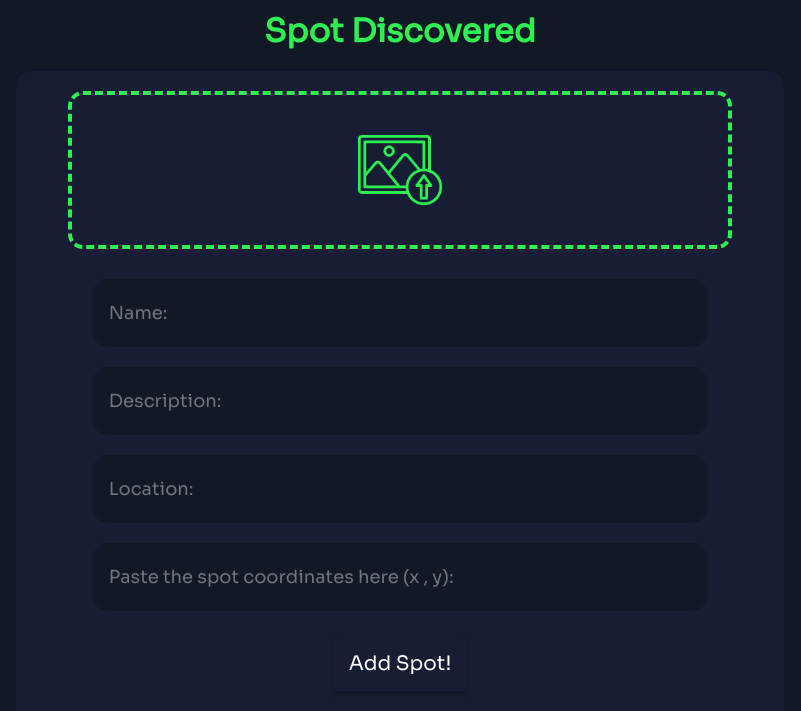
Test case: Given a SpotDiscoveredPage component › When all input fields are filled › Then the submit button shouldn't be disabled
Type "hola" into the field with placeholder "Name:".
click(400, 313); type("hola")  # box top-left (93, 279), bottom-right (707, 347)
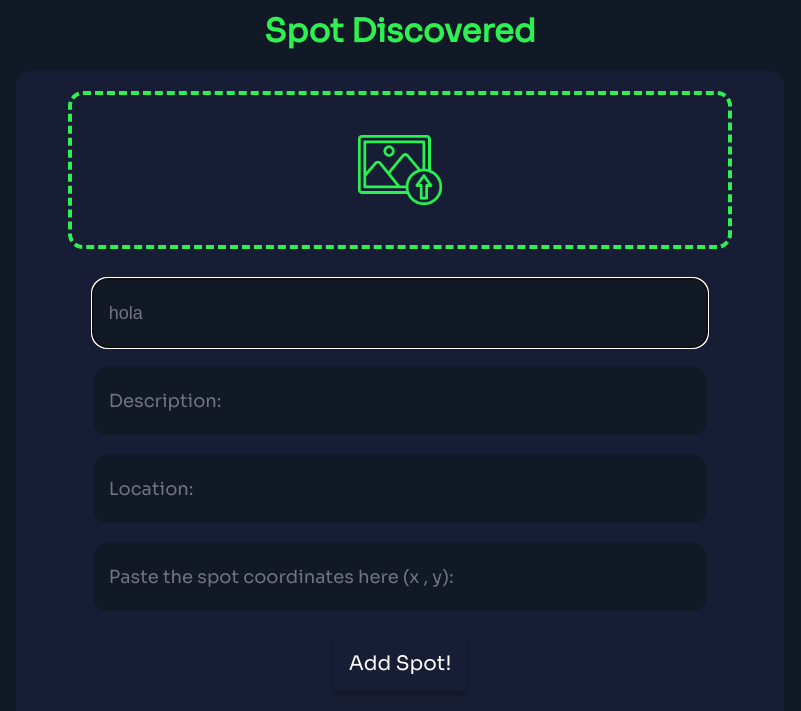
Type "hola" into the field with placeholder "Description:".
click(400, 401); type("hola")  # box top-left (93, 367), bottom-right (707, 435)
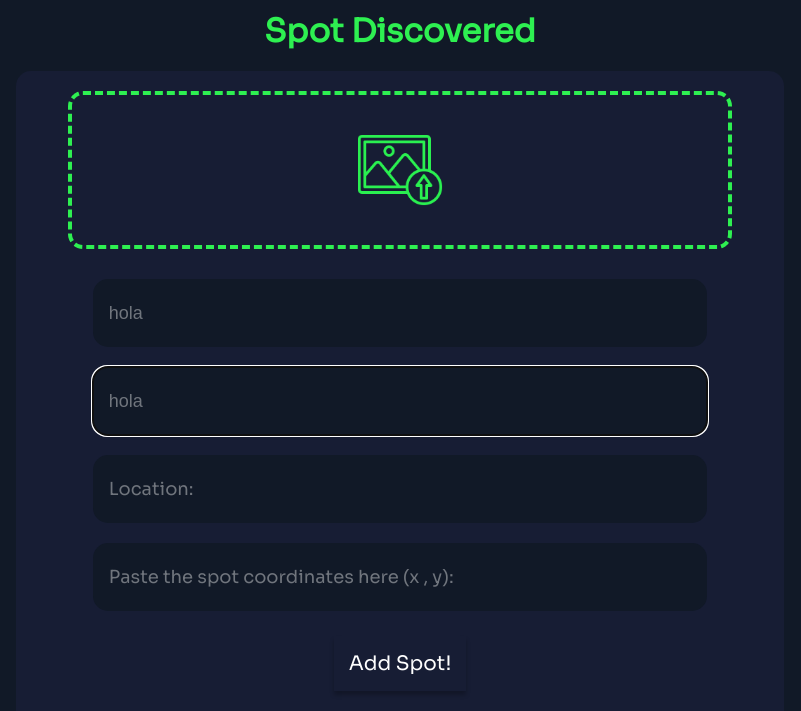
Type "hola" into the field with placeholder "Location:".
click(400, 489); type("hola")  # box top-left (93, 455), bottom-right (707, 523)
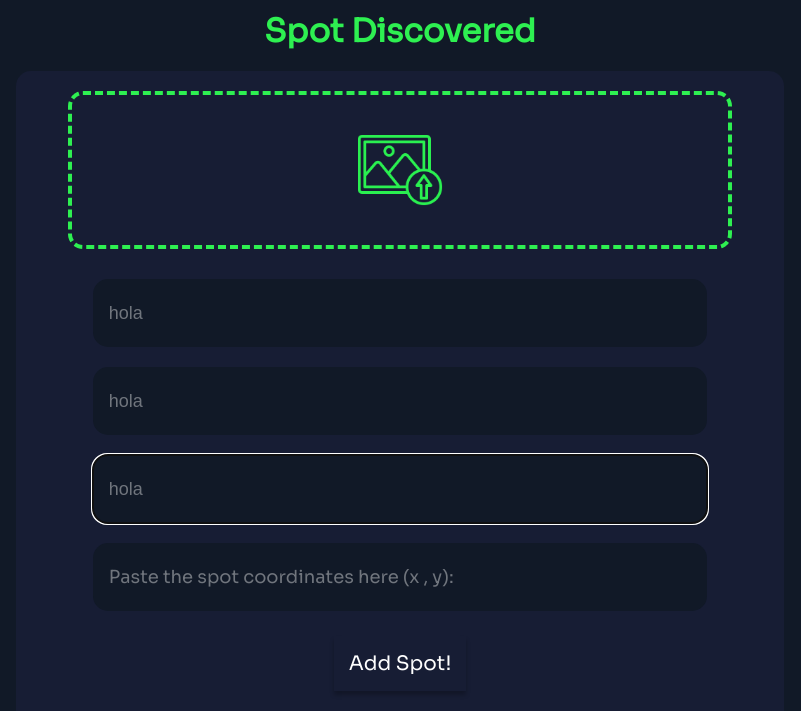
Type "hola" into the field with placeholder "Paste the spot coordinates here (x , y):".
click(400, 577); type("hola")  # box top-left (93, 543), bottom-right (707, 611)
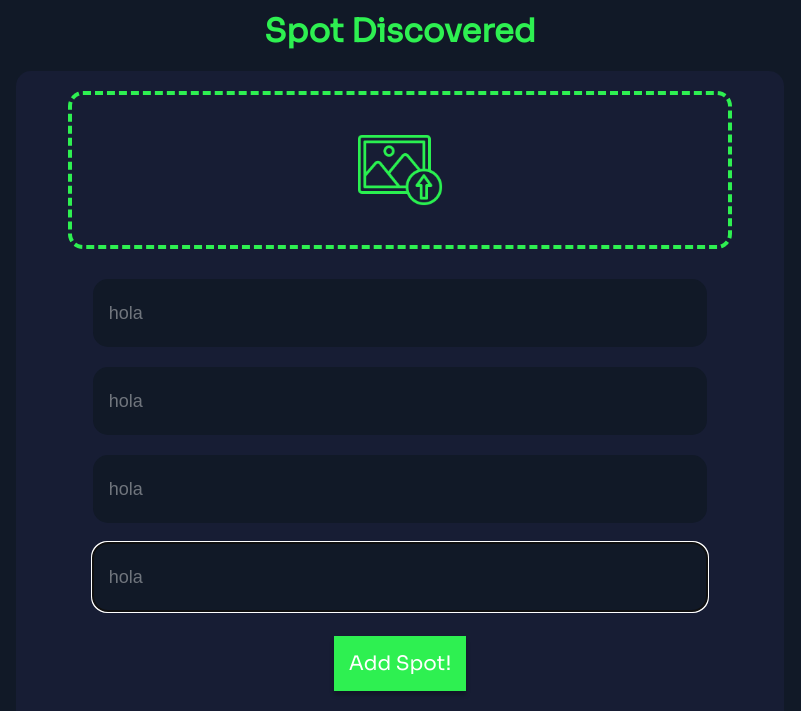
Now the button is enabled, box top-left (334, 636), bottom-right (466, 691)
